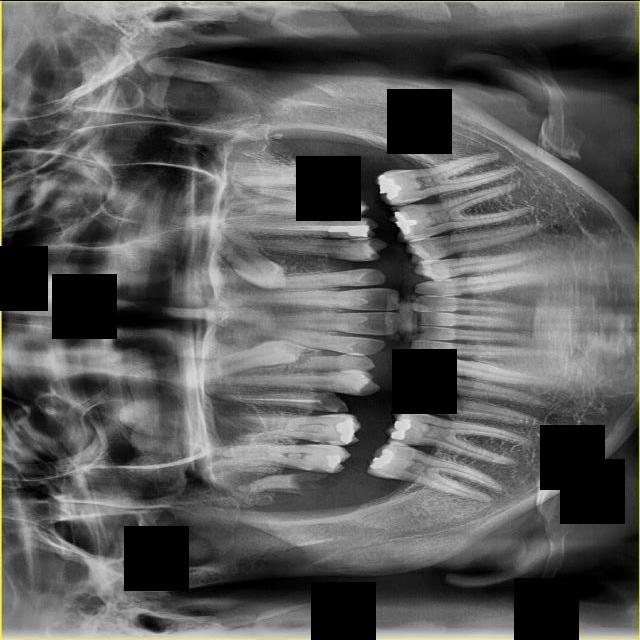74: (245, 223, 330, 231), (241, 397, 322, 402)
NucleOSS Implant: (371, 171, 405, 202), (386, 208, 418, 237), (333, 416, 361, 445), (327, 220, 370, 237), (370, 445, 395, 473), (390, 415, 415, 442), (331, 160, 355, 185), (325, 454, 343, 469)
Sterngold Implant: (300, 188, 368, 214), (284, 472, 327, 495), (313, 390, 349, 412), (333, 380, 355, 394), (312, 434, 337, 446), (304, 465, 331, 473), (321, 159, 340, 168), (347, 237, 371, 244)
